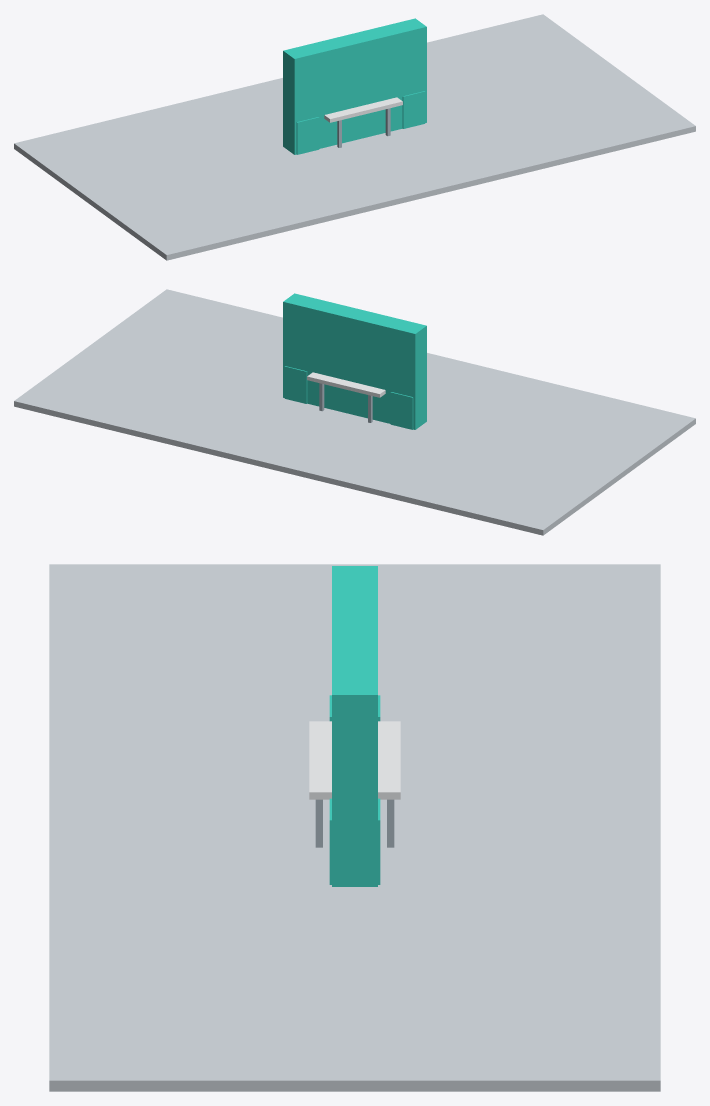
The picture shows the model from 3 angles, top to bottom: view 1: azimuth 30°, elevation 25°; view 2: azimuth 150°, elevation 25°; view 3: azimuth 270°, elevation 25°; orthographic projection. The views are drawn at different scales.
Parts seen in each view (by area): view 1: Exhibition Booth Concept; view 2: Exhibition Booth Concept; view 3: Exhibition Booth Concept.
Part boxes in pixels (bbox=[...]): Exhibition Booth Concept: bbox=[14, 14, 695, 260]; Exhibition Booth Concept: bbox=[14, 289, 695, 535]; Exhibition Booth Concept: bbox=[49, 564, 660, 1091].
Size of the model in its own units: 12 by 2.2 by 6.
